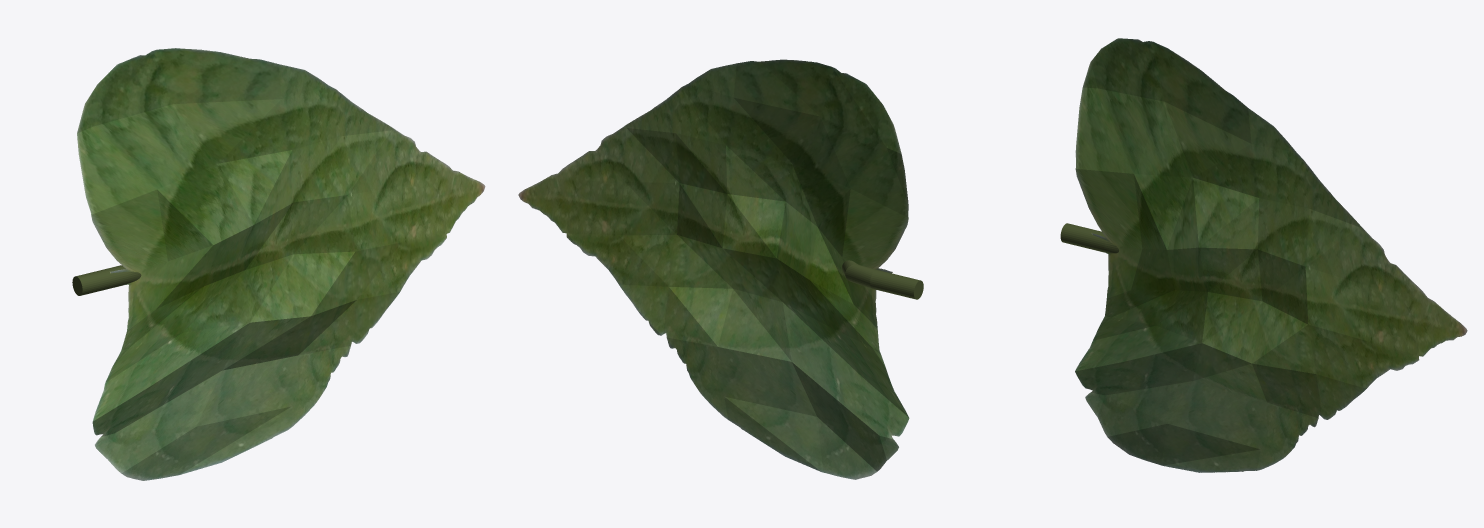
The model's file is BeanLeaf_unifoliate.obj.
The picture shows the model from 3 angles, left to right: view 1: azimuth 30°, elevation 25°; view 2: azimuth 150°, elevation 25°; view 3: azimuth 330°, elevation 25°; orthographic projection. The views are drawn at different scales.
Parts seen in each view (by area): view 1: leaf, petiolule; view 2: leaf, petiolule; view 3: leaf, petiolule.
Boxes of the visible parts, box(x1,y1,x2,y2) form: leaf: box(77, 48, 485, 480); petiolule: box(72, 265, 141, 295); leaf: box(518, 59, 909, 479); petiolule: box(842, 260, 923, 299); leaf: box(1075, 38, 1467, 472); petiolule: box(1060, 223, 1118, 253).
Size of the model in its own units: 1.17 by 1.02 by 0.1312.
